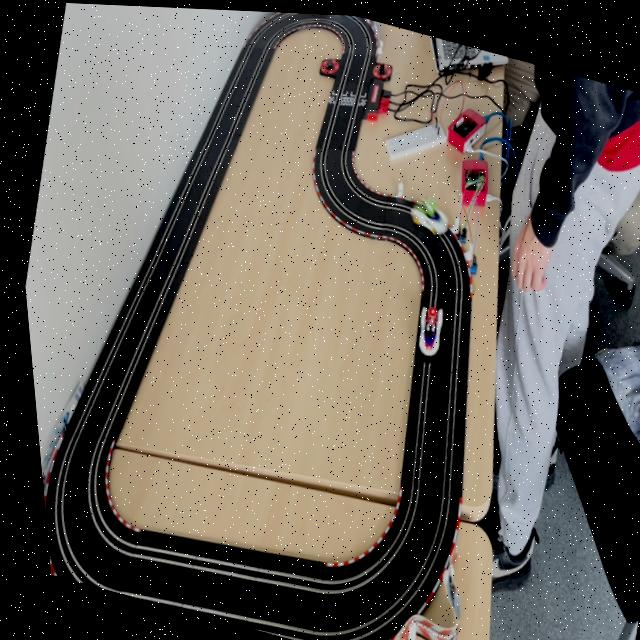mario: (405, 296, 443, 358)
yoshi: (401, 189, 454, 236)
